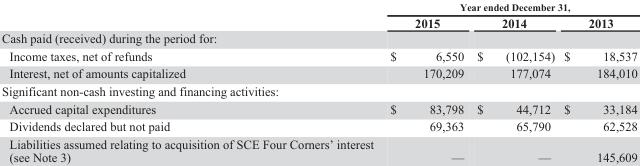table: (1, 0, 636, 163)
table column: (1, 0, 381, 163), (469, 0, 558, 163), (381, 0, 469, 163), (558, 0, 636, 163)
table column header: (1, 0, 636, 30)
table projected row header: (1, 81, 636, 99), (1, 30, 636, 46)
table row: (1, 134, 636, 163), (1, 46, 636, 64), (1, 81, 636, 99), (1, 99, 636, 117), (1, 13, 636, 30), (1, 64, 636, 81), (1, 117, 636, 134), (1, 30, 636, 46), (1, 0, 636, 13)
table spanning cell: (381, 0, 636, 13)
